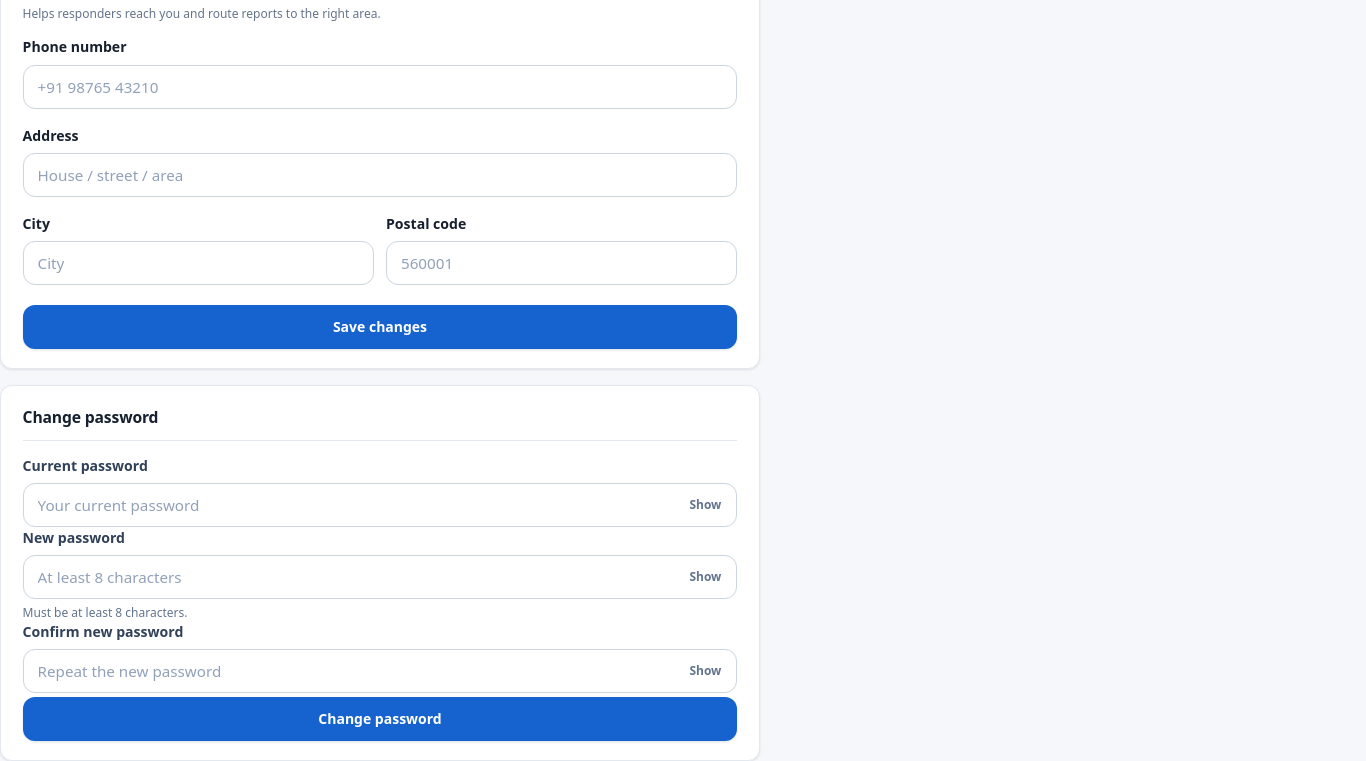
it: profile page › validates the new password fields
(page scrolled)
Type "old-pass-1" into the password field labelled "Current password". click: (380, 505)
box: [23,483,737,527]
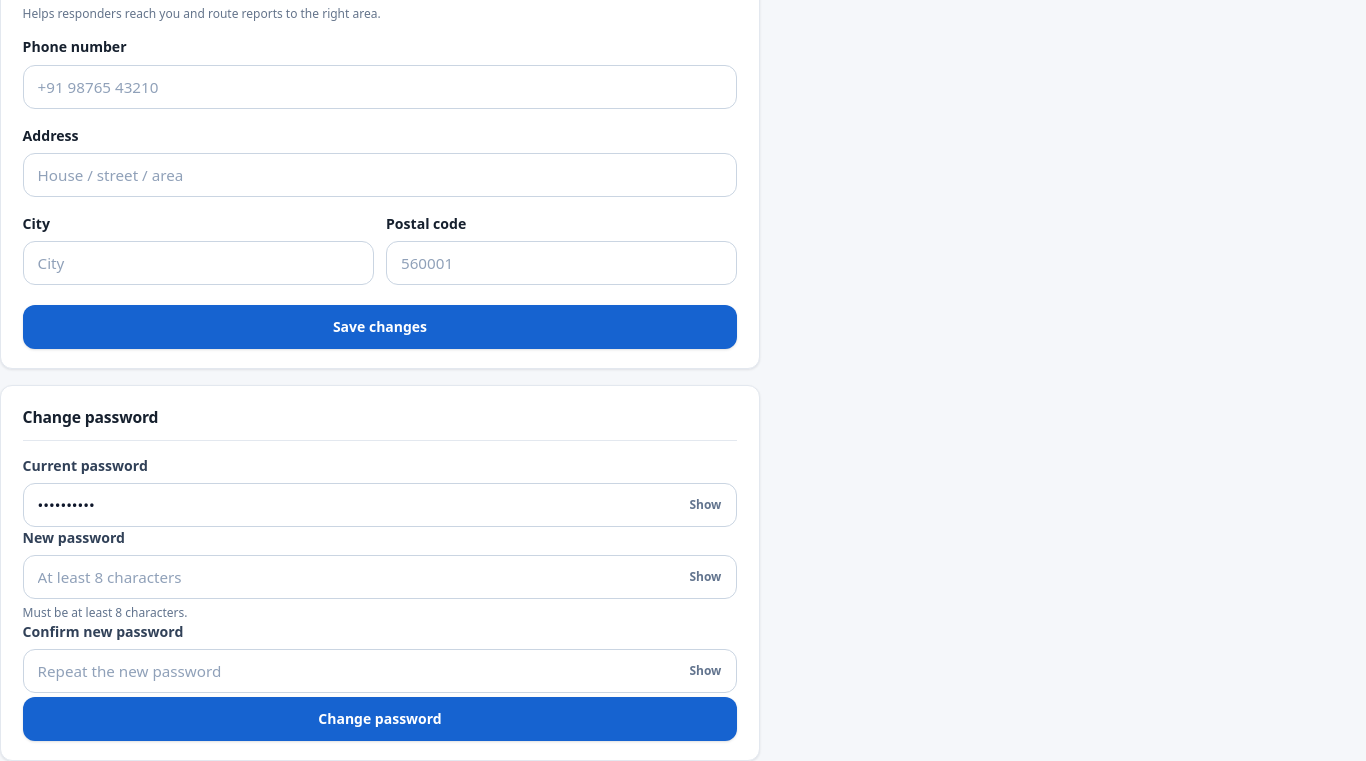
Type "short" into the password field labelled "New password". click: (380, 577)
box: [23,555,737,599]
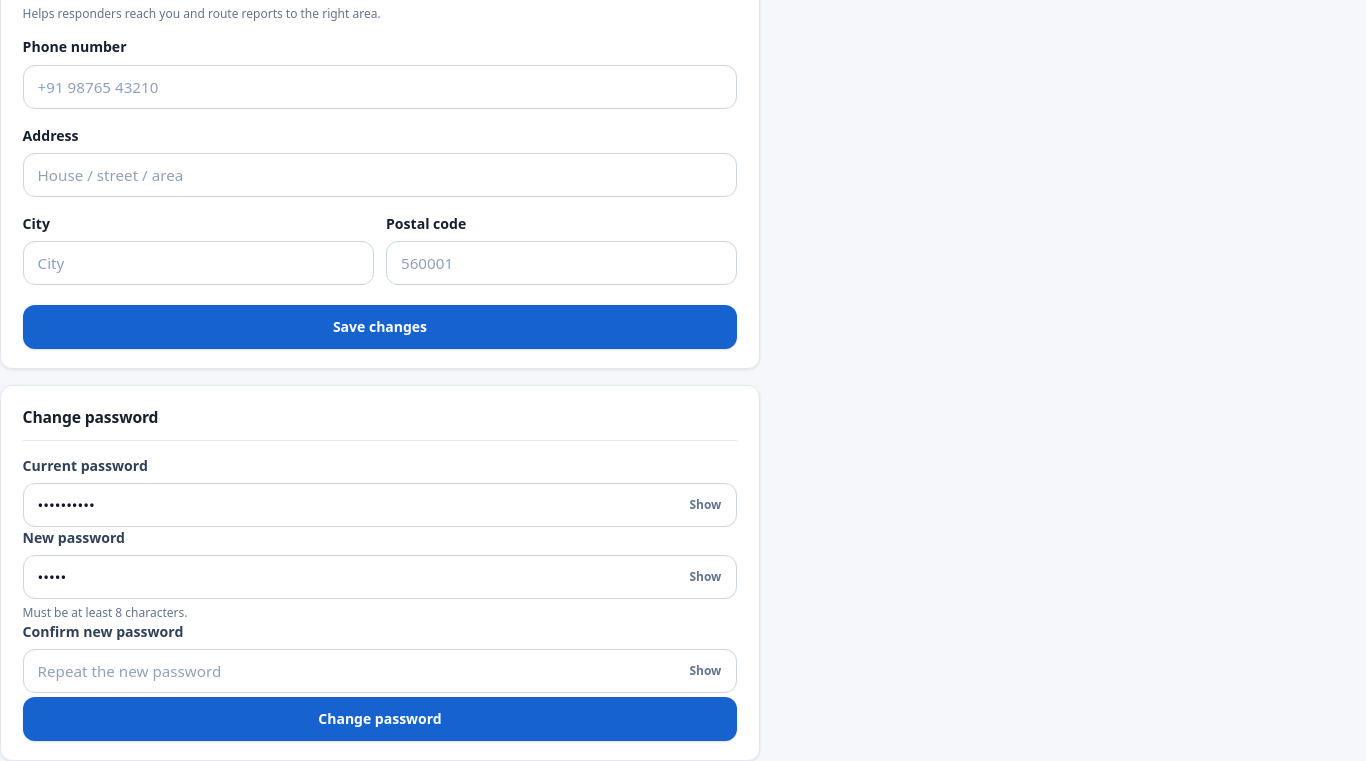
Click the button "Change password". click: (380, 719)
box: [23,697,737,741]
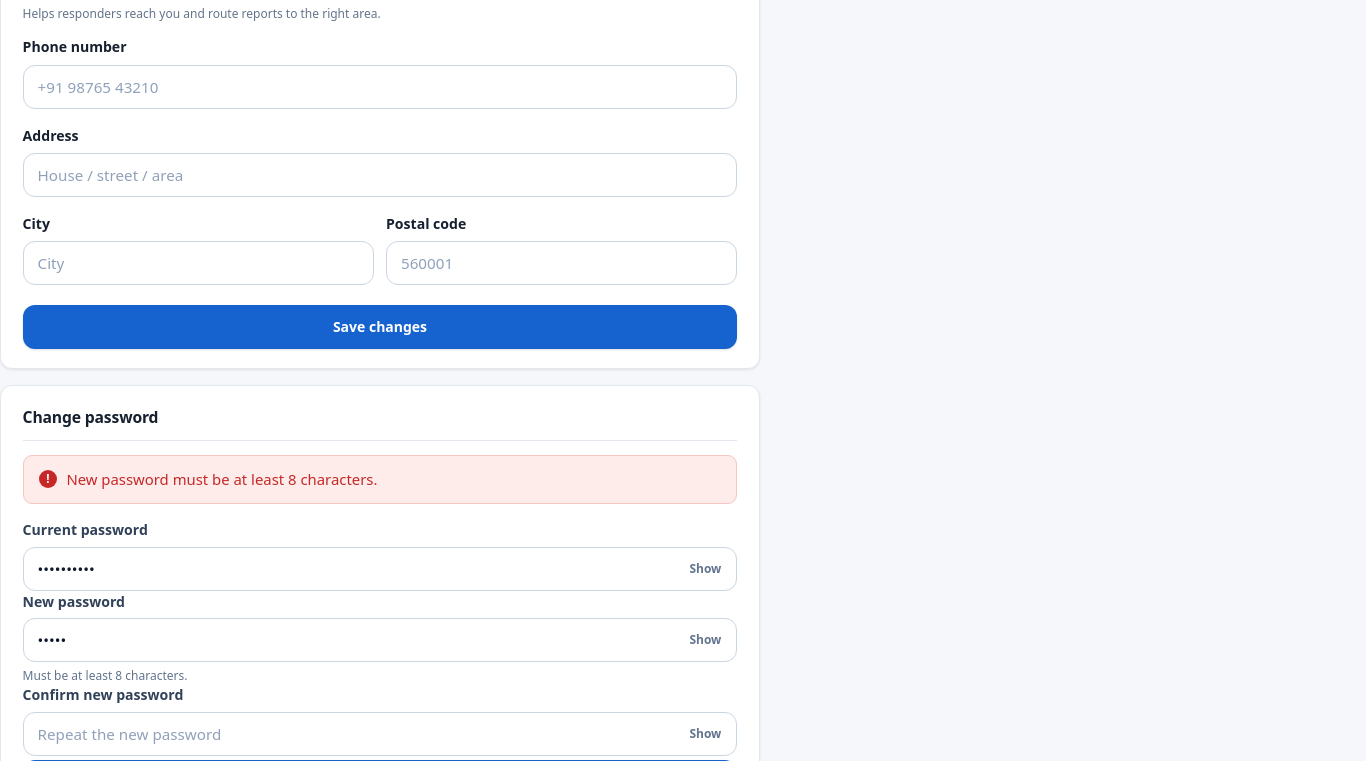
Expected: the message shows "New password must be at least 8 characters", [66,469,377,489]
Type "brandnewpass1" into the password field labelled "New password". click: (380, 640)
box: [23,618,737,662]
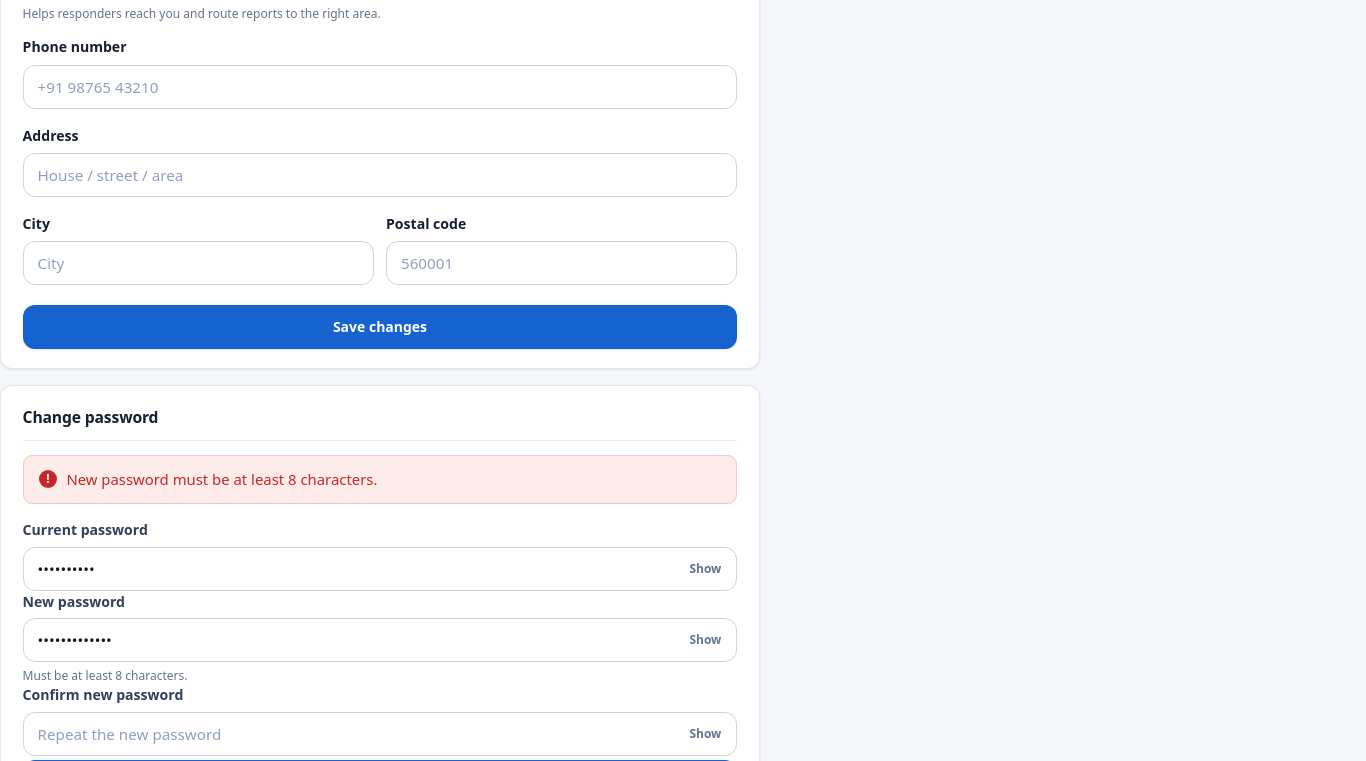
Type "different-pass" into the password field labelled "Confirm new password". click: (380, 734)
box: [23,712,737,756]
(page scrolled)
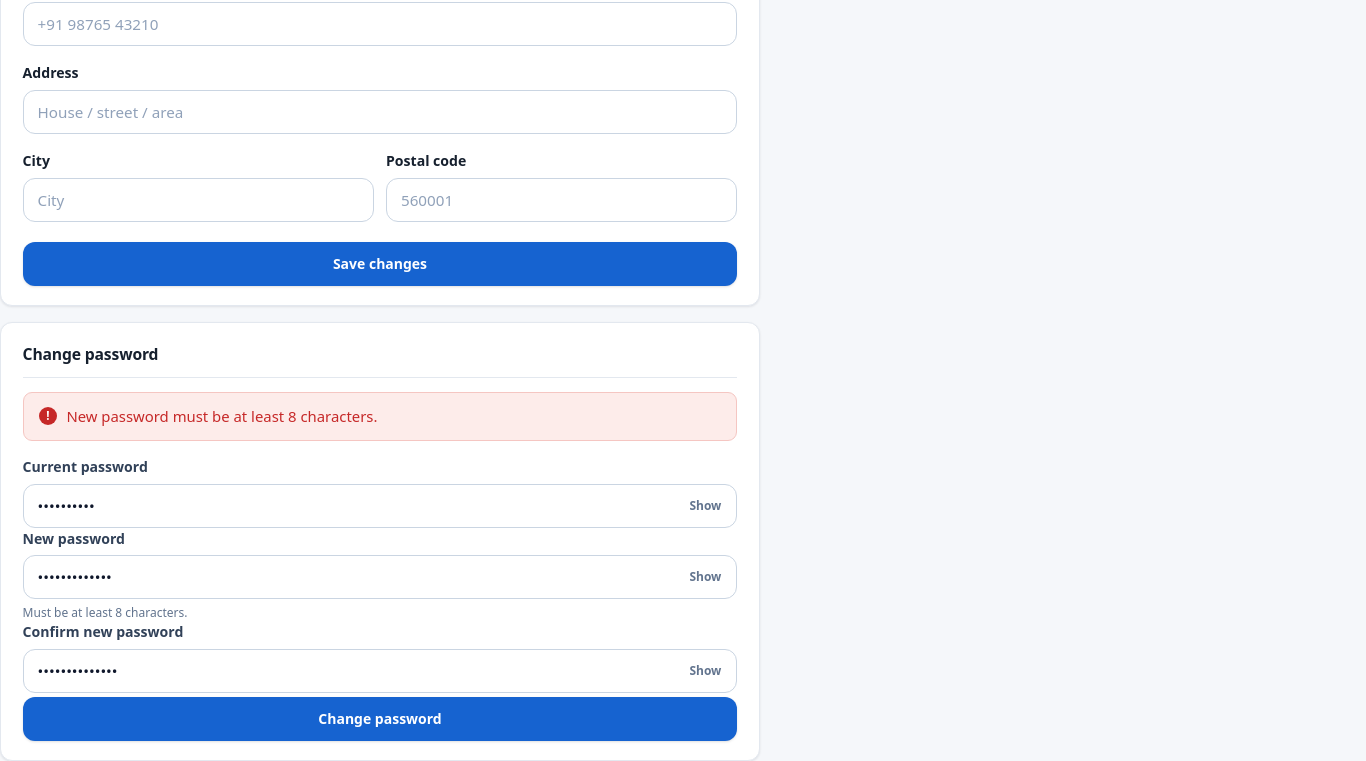
Click the button "Change password". click: (380, 719)
box: [23,697,737,741]
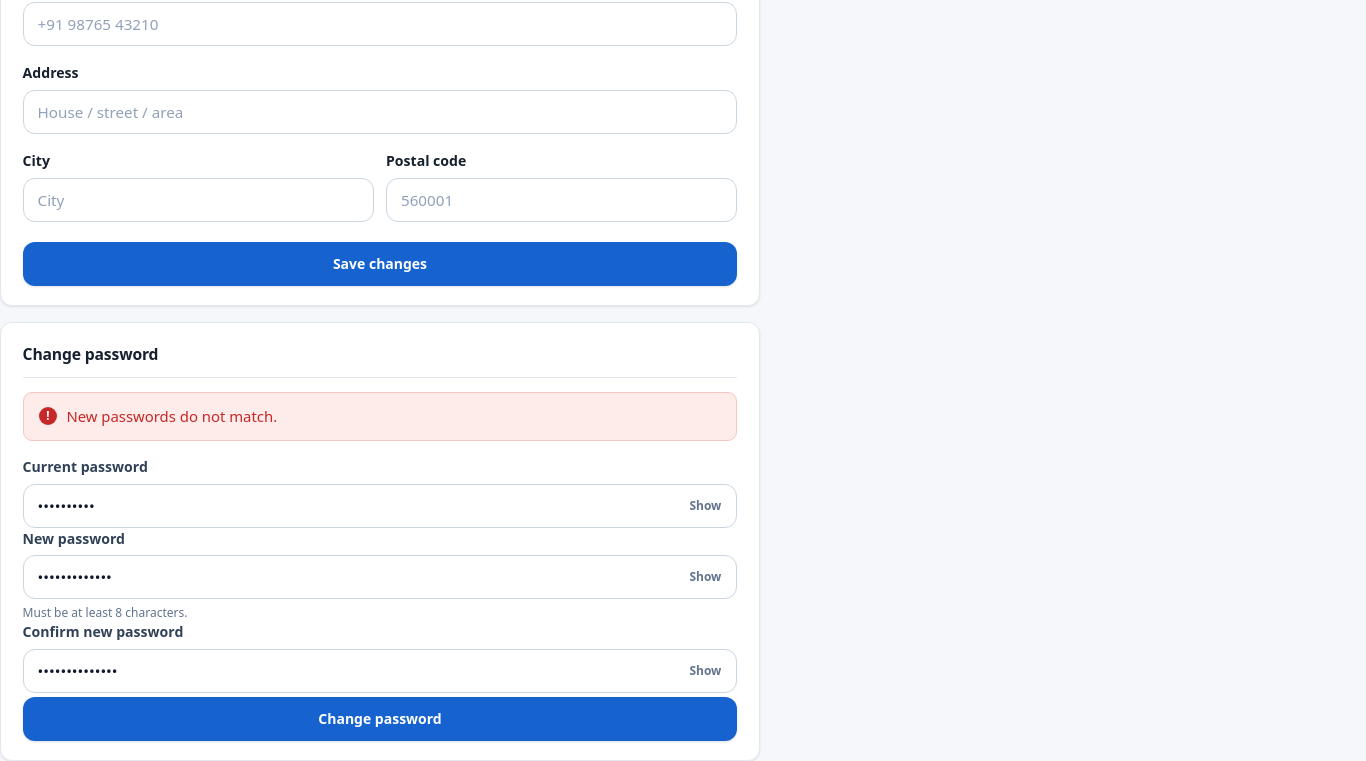
Expected: the message shows "do not match", [66,406,277,426]
